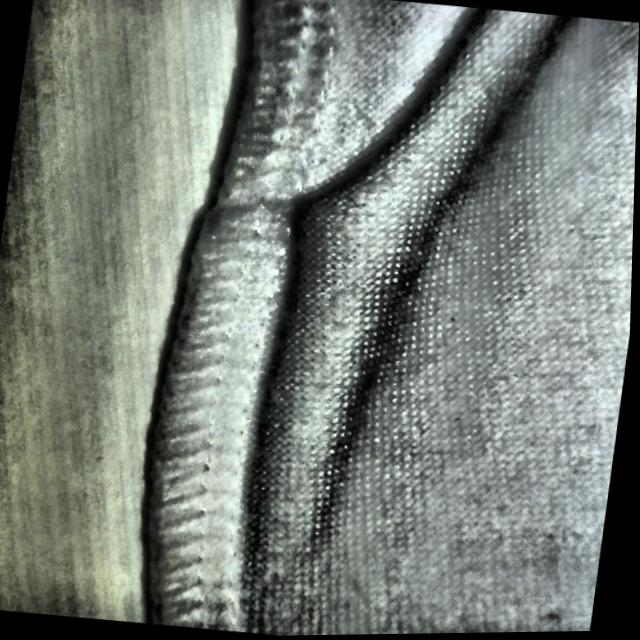seam: (169, 63, 477, 402)
